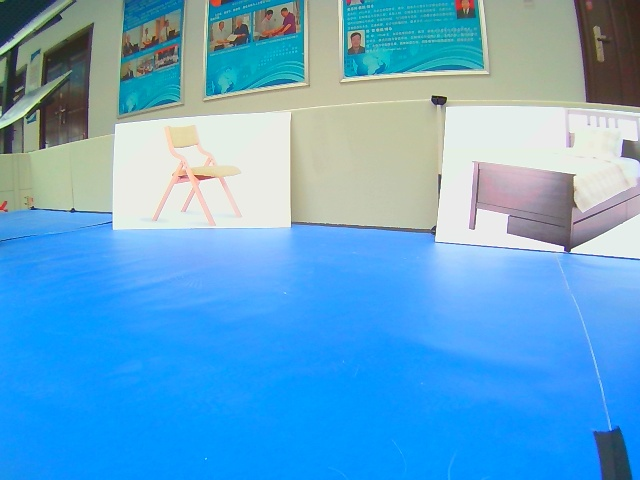bed: (436, 103, 640, 260)
table: (103, 111, 293, 230)
